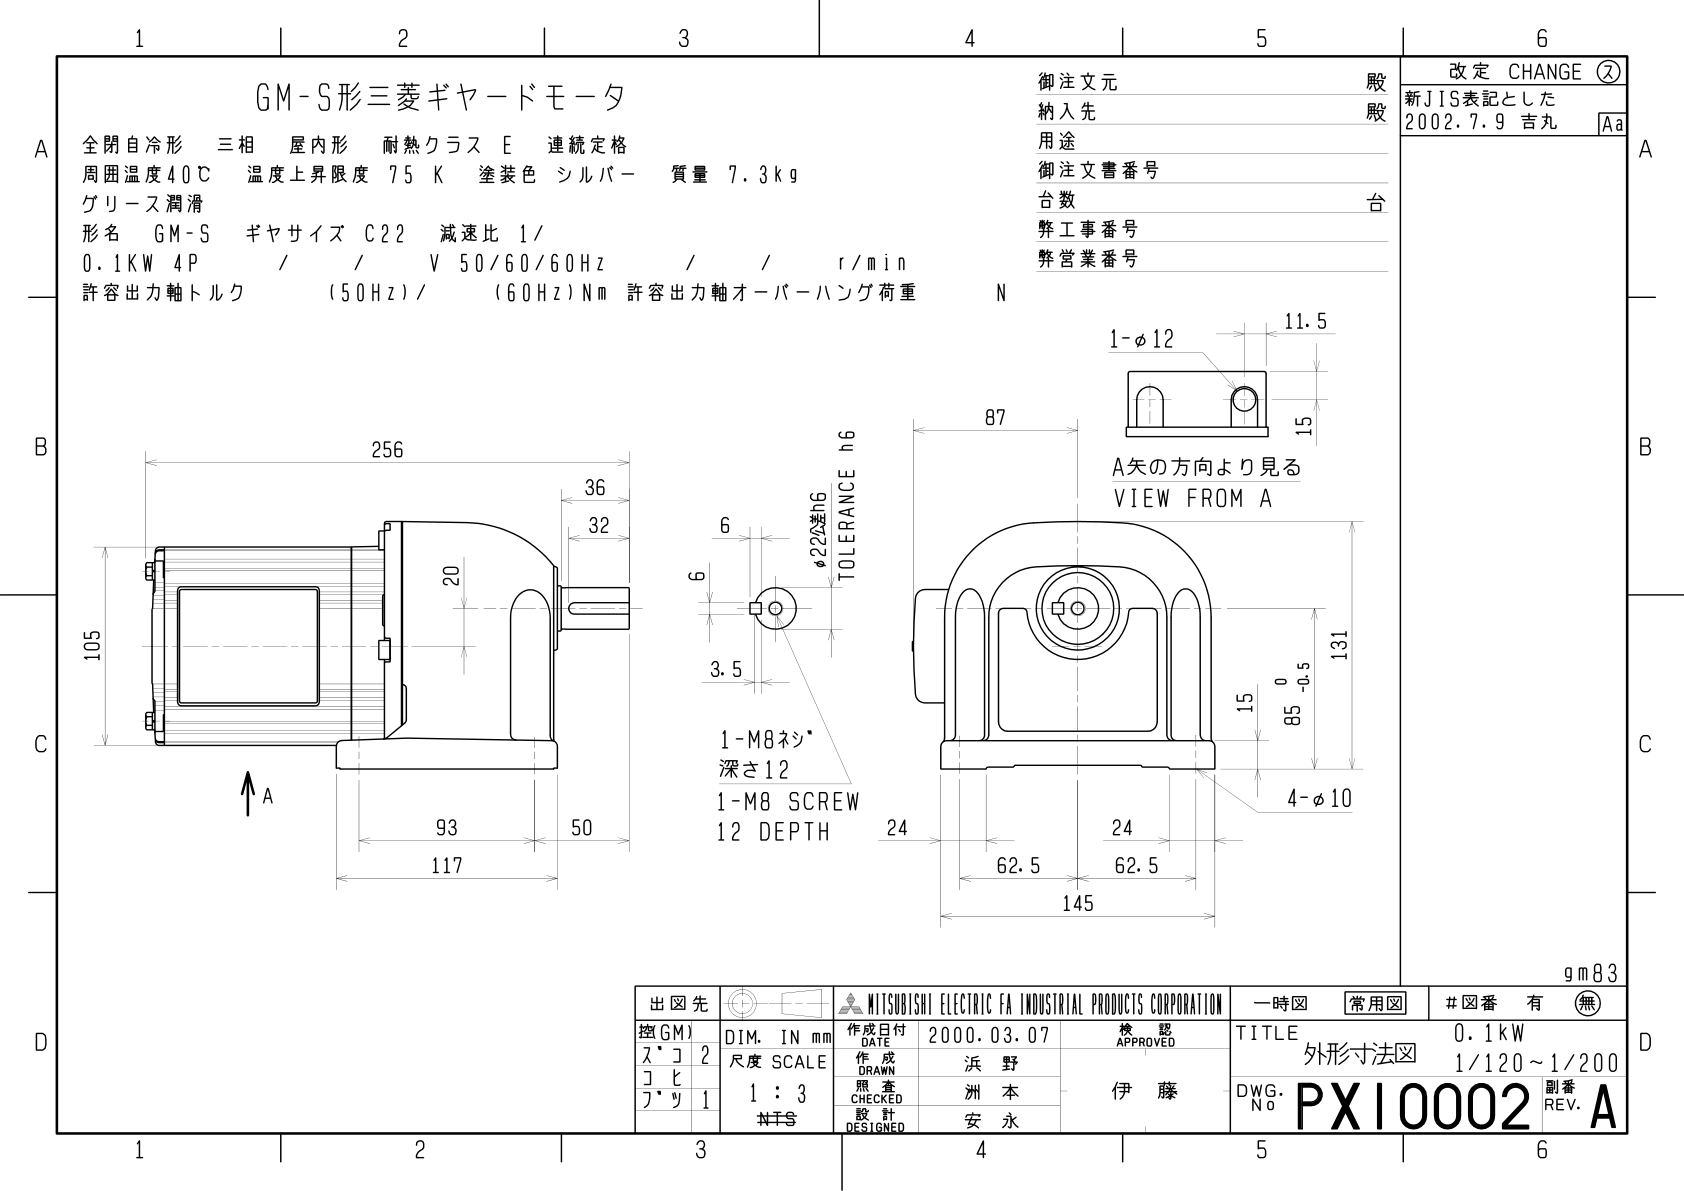GM_S_屋内＿三相_脚: (9, 6, 1684, 1191)
